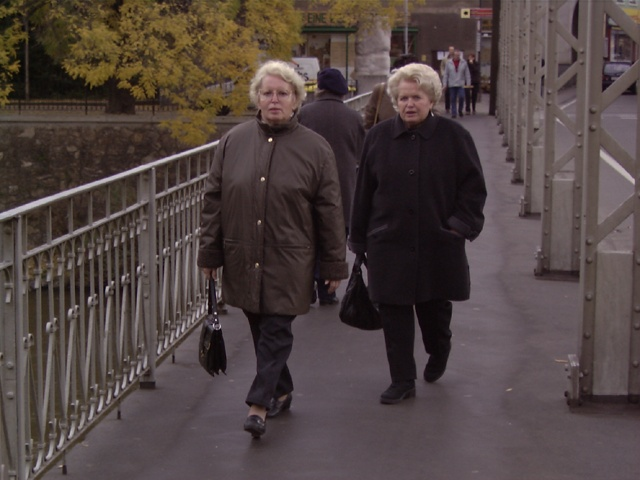person: (199, 60, 346, 438), (350, 60, 486, 406)
